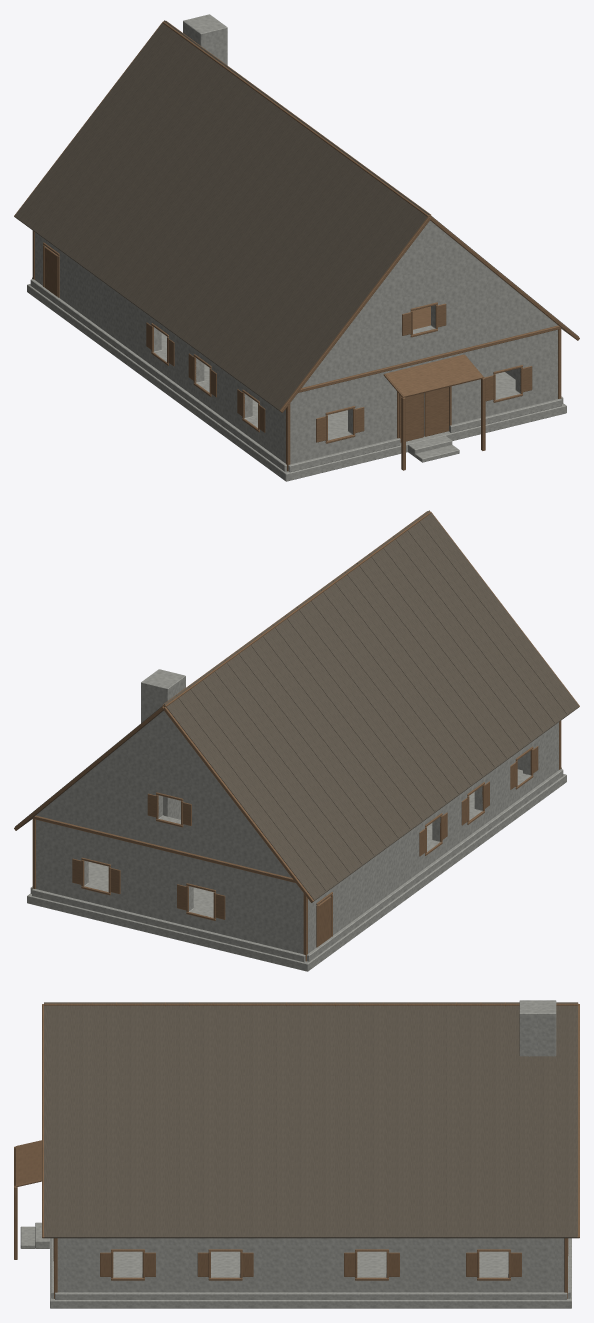
The picture shows the model from 3 angles, top to bottom: view 1: azimuth 30°, elevation 25°; view 2: azimuth 150°, elevation 25°; view 3: azimuth 270°, elevation 25°; orthographic projection.
Visible parts, largest first — view 1: T03B_roof_left, T03B_gable_front, T03B_wall_front, T03B_wall_left, T03B_foundation, T03B_entry_canopy, T03B_entry_frame_l, T03B_verge_-1_-1, T03B_chimney, T03B_ridge, T03B_entry_leaf1, T03B_left_1_frame_l (+3 smaller); view 2: T03B_roof_left, T03B_wall_rear, T03B_gable_rear, T03B_wall_left, T03B_foundation, T03B_rear_1_frame_l, T03B_verge_1_-1, T03B_chimney, T03B_ridge, T03B_left_1_frame_l, T03B_roof_right, T03B_kitchen_door_leaf0; view 3: T03B_roof_right, T03B_wall_right, T03B_foundation, T03B_chimney, T03B_right_1_frame_l, T03B_ridge, T03B_entry_canopy, T03B_roof_left, T03B_wall_rear, T03B_wall_front, T03B_verge_1_-1, T03B_verge_-1_-1.
Boxes of the visible parts, left/top/right/bottom form: T03B_roof_left: left=15, top=21, right=429, bottom=410; T03B_gable_front: left=302, top=221, right=557, bottom=387; T03B_wall_front: left=288, top=330, right=561, bottom=472; T03B_wall_left: left=30, top=232, right=295, bottom=471; T03B_foundation: left=27, top=284, right=566, bottom=481; T03B_entry_canopy: left=383, top=354, right=485, bottom=470; T03B_entry_frame_l: left=286, top=302, right=561, bottom=471; T03B_verge_-1_-1: left=279, top=216, right=579, bottom=412; T03B_chimney: left=183, top=14, right=227, bottom=65; T03B_ridge: left=162, top=21, right=431, bottom=216; T03B_entry_leaf1: left=424, top=387, right=448, bottom=436; T03B_left_1_frame_l: left=43, top=242, right=259, bottom=432; T03B_roof_left: left=164, top=511, right=578, bottom=900; T03B_wall_rear: left=32, top=819, right=310, bottom=962; T03B_gable_rear: left=36, top=711, right=291, bottom=877; T03B_wall_left: left=298, top=724, right=563, bottom=961; T03B_foundation: left=27, top=769, right=566, bottom=971; T03B_rear_1_frame_l: left=32, top=792, right=307, bottom=961; T03B_verge_1_-1: left=14, top=706, right=314, bottom=902; T03B_chimney: left=141, top=669, right=185, bottom=819; T03B_ridge: left=162, top=511, right=431, bottom=706; T03B_left_1_frame_l: left=316, top=746, right=533, bottom=947; T03B_roof_right: left=15, top=510, right=429, bottom=828; T03B_kitchen_door_leaf0: left=318, top=896, right=331, bottom=946; T03B_roof_right: left=44, top=1003, right=577, bottom=1238; T03B_wall_right: left=55, top=1238, right=567, bottom=1299; T03B_foundation: left=20, top=1222, right=571, bottom=1308; T03B_chimney: left=519, top=1000, right=556, bottom=1056; T03B_right_1_frame_l: left=111, top=1249, right=510, bottom=1280; T03B_ridge: left=44, top=1002, right=578, bottom=1006; T03B_entry_canopy: left=14, top=1140, right=41, bottom=1259; T03B_roof_left: left=44, top=1002, right=577, bottom=1003; T03B_wall_rear: left=558, top=1238, right=570, bottom=1298; T03B_wall_front: left=51, top=1238, right=63, bottom=1298; T03B_verge_1_-1: left=577, top=1004, right=579, bottom=1238; T03B_verge_-1_-1: left=42, top=1004, right=44, bottom=1238.
Size of the model in its own units: 14.28 by 11 by 23.2.
3 materials, 3 textured.
